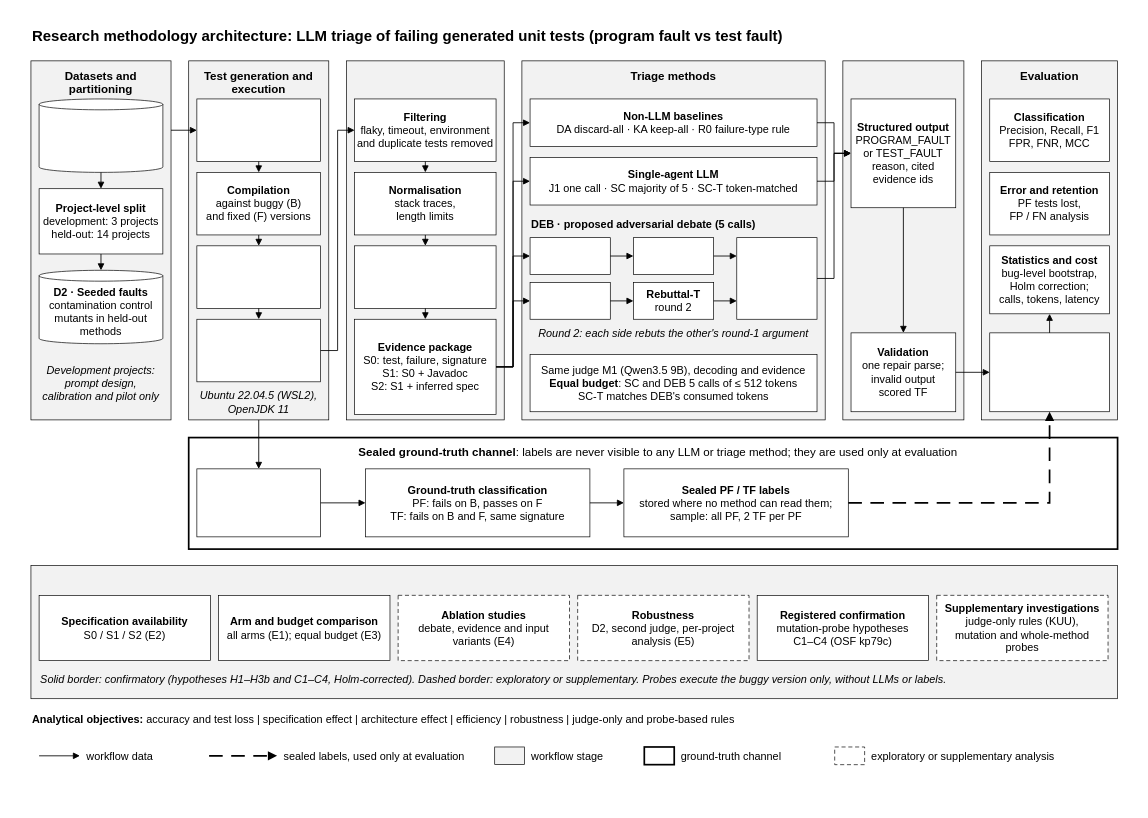
Image size: 1148x818. Some labels were removed from this diagram. The box of each missing label's shape, as (x1, y1, x2, y2) in pixels:
Adjudicator reads all four arguments, anonymised: (736, 237, 817, 319)
Advocate-P program fault: (529, 237, 610, 274)
Advocate-T test fault: (529, 282, 610, 319)
D1 · Defects4J 3.0.1 real faults 17 projects: (38, 98, 163, 172)
Execution 3 runs each on B and F fresh JVM, 30 s timeout: (196, 245, 321, 308)
Execution outcomes every run on B and F: (196, 468, 321, 537)
Experimental Conditions and Additional Analyses: (30, 565, 1118, 699)
Failure evidence outcome, message, stack trace: (196, 319, 321, 382)
Leakage guard blocks bug ids, fix text and focal-method body: (354, 245, 496, 308)
Prediction interface: (842, 60, 964, 420)
Preprocessing and evidence: (346, 60, 504, 420)
Rebuttal-P round 2: (633, 237, 714, 274)
Scoring predictions joined to sealed labels: (989, 332, 1109, 412)
Test generation Gemma 4 26B-A4B 3 per method, T = 0.7: (196, 98, 321, 162)
